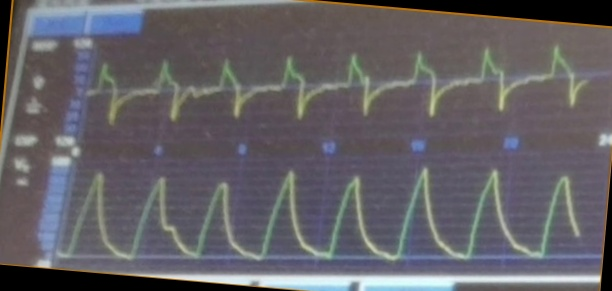Premature_cycling Flow: (96, 38, 588, 133)
Premature_cycling Volume: (74, 165, 578, 268)
